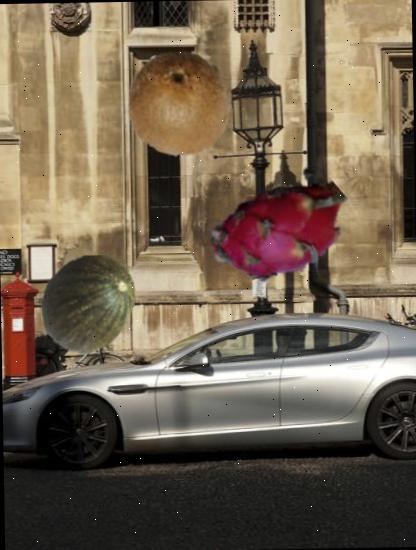Kiwi: (123, 48, 234, 160)
Melon: (38, 254, 138, 354)
Pitahaya: (213, 162, 356, 303)
